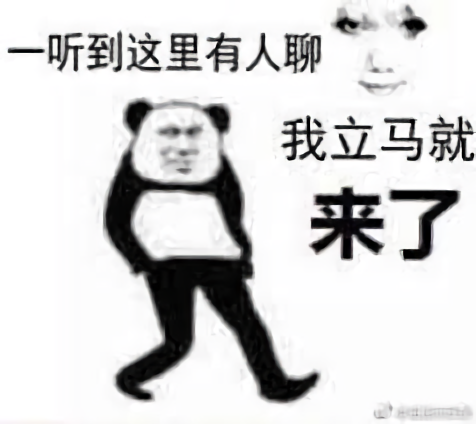dragon: (330, 7, 431, 98)
